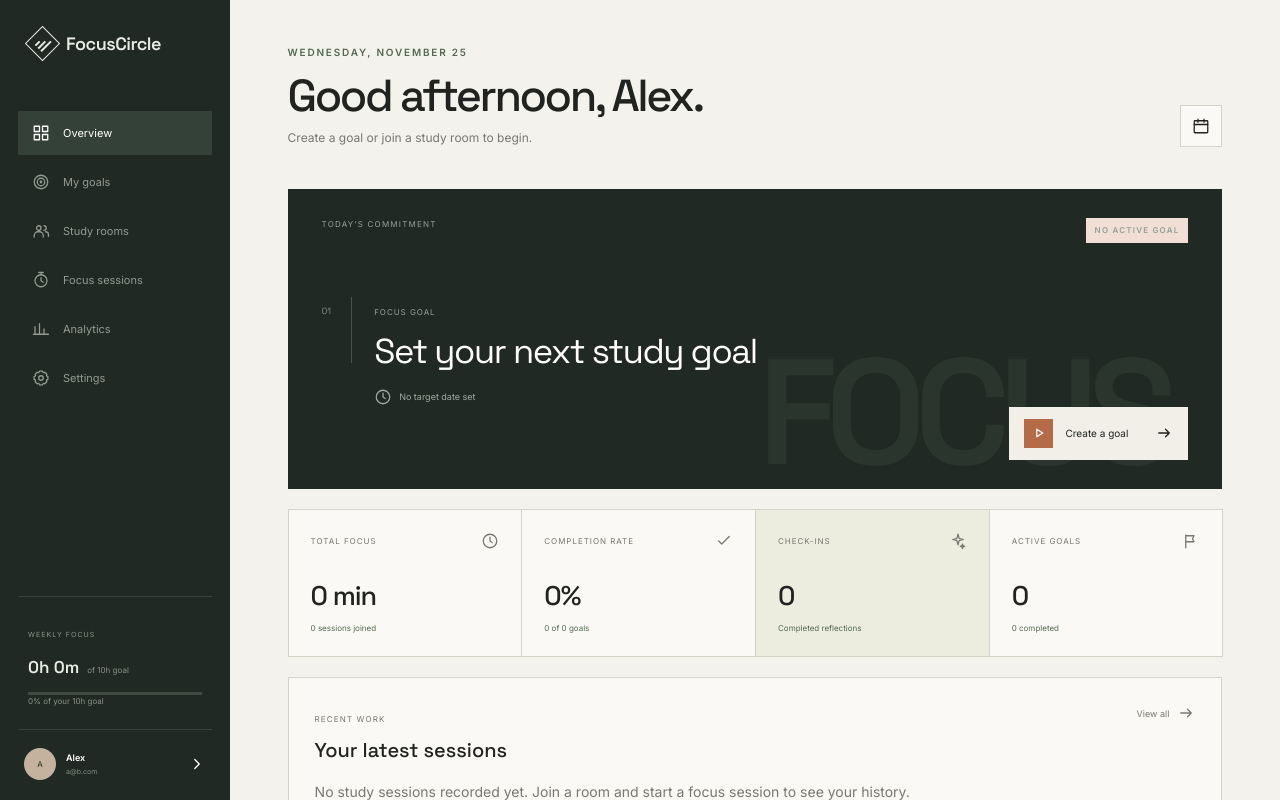
Test case: FocusCircle Frontend › manages goals: create, complete, and delete
Later steps or results of the test are not shown.
Expected: the heading "Good afternoon, Alex." is shown, [288,74,703,119]
Click the button "My goals" at (115, 182), box [18,160,212,204]
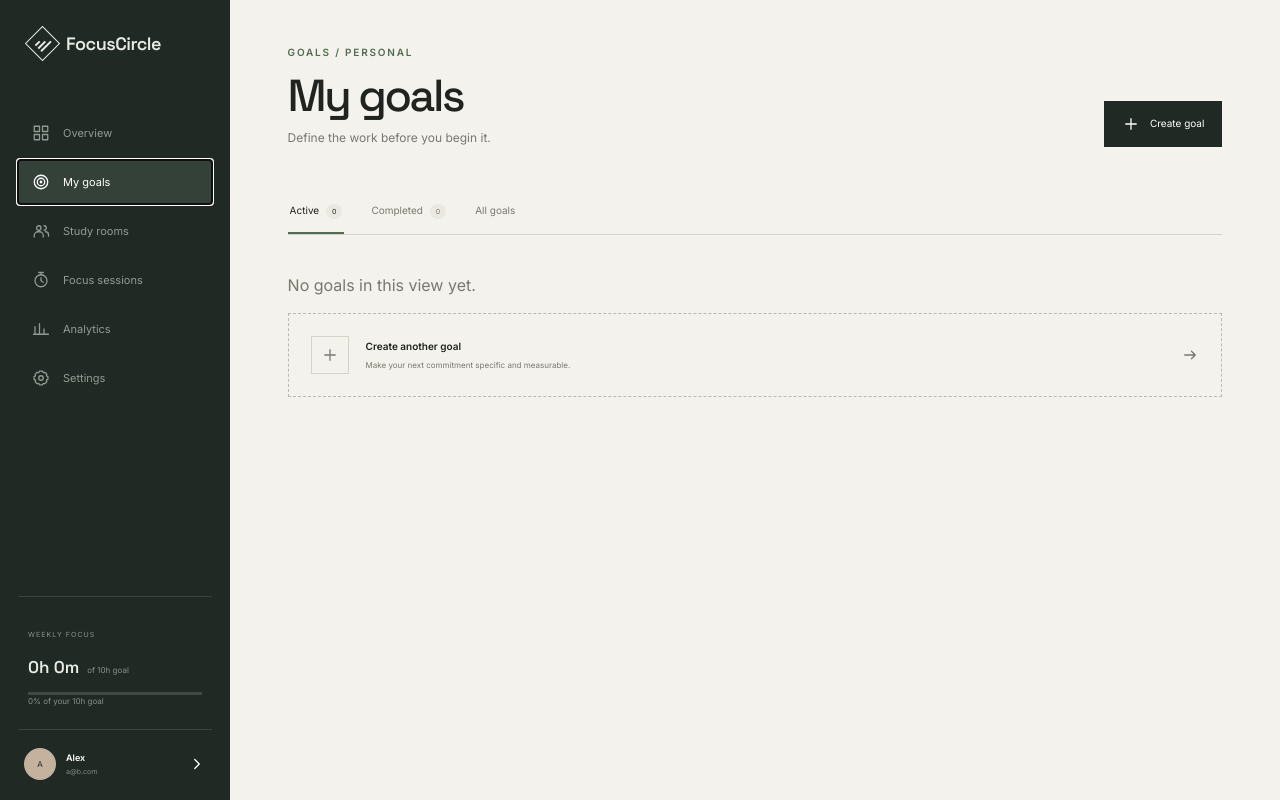
Click the button "Create goal" at (1163, 124), box [1104,101,1222,147]
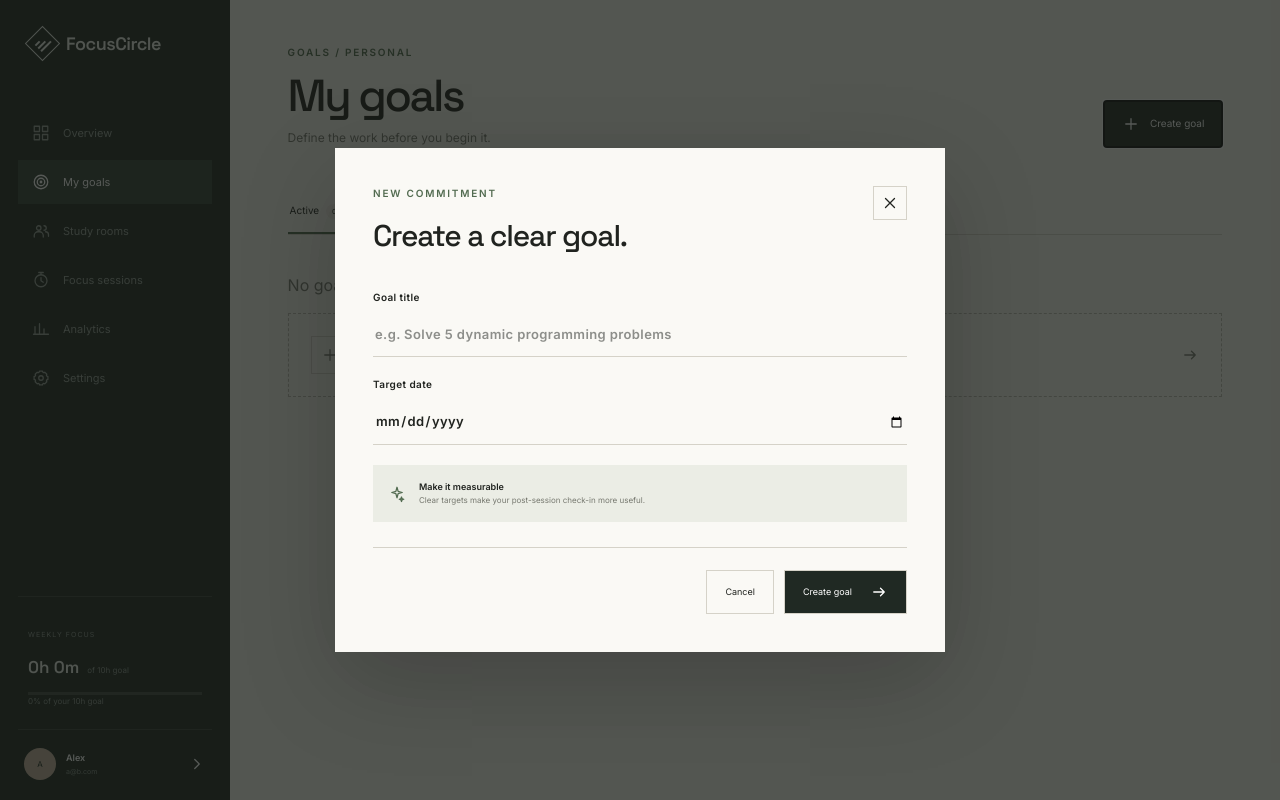
Type "New Study Goal" into the field with placeholder "e.g. Solve 5 dynamic programming problems" at (640, 335), box [373,313,907,357]
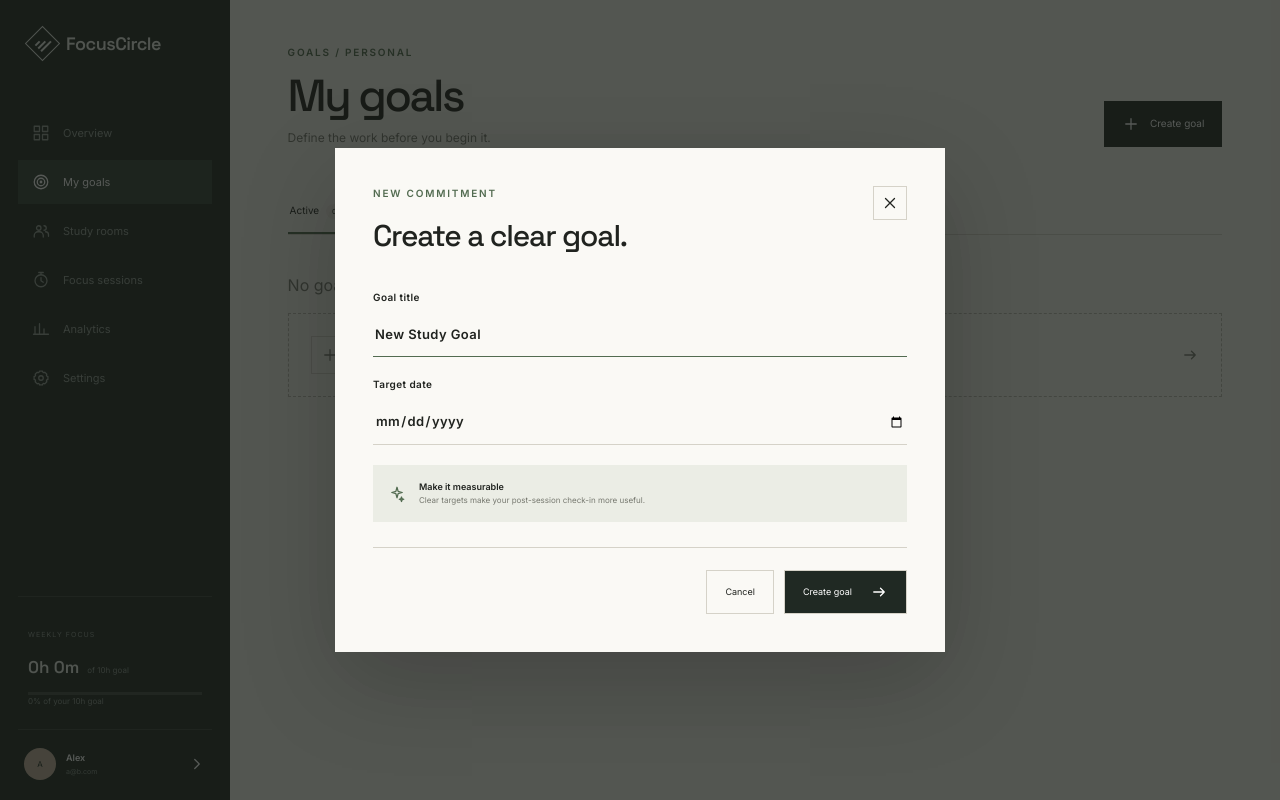
Click the button "Create goal" at (845, 592), box [784,570,907,614]
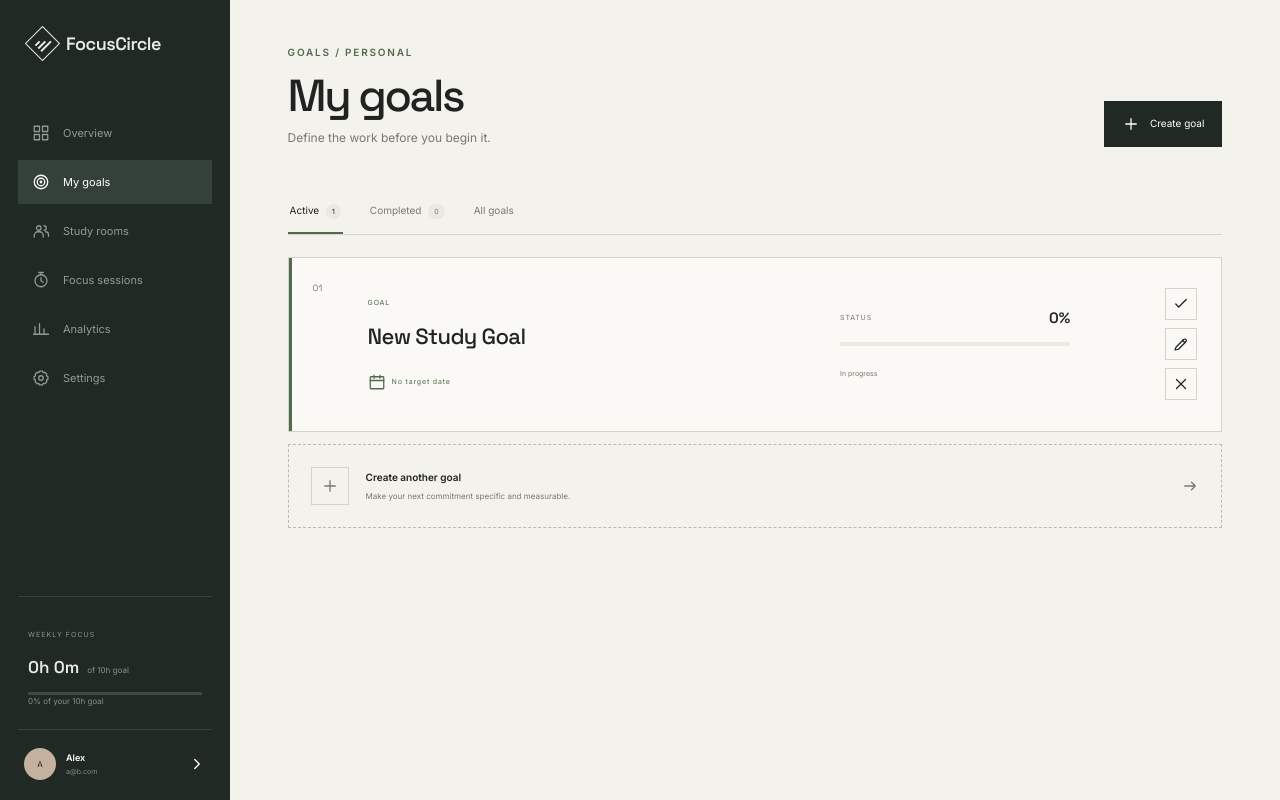
Expected: the heading "New Study Goal" is shown, [368,322,525,350]
